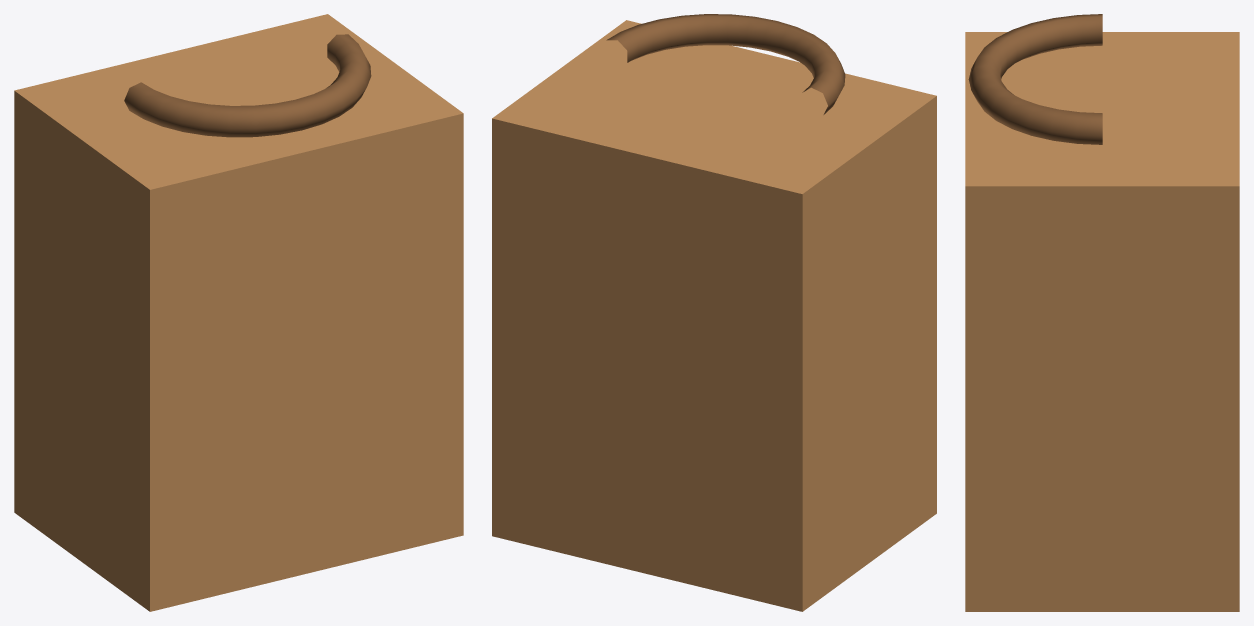
Rendered from checkout-bag.glb.
The picture shows the model from 3 angles, left to right: view 1: azimuth 30°, elevation 25°; view 2: azimuth 150°, elevation 25°; view 3: azimuth 270°, elevation 25°; orthographic projection.
Parts seen in each view (by area): view 1: n2, n3; view 2: n2, n3; view 3: n2, n3.
Part boxes in pixels (x1,y1,x2,y2): n2: (14, 14, 463, 611); n3: (124, 34, 371, 137); n2: (492, 20, 936, 611); n3: (606, 14, 845, 114); n2: (965, 32, 1239, 611); n3: (968, 14, 1102, 144).
Size of the model in its own units: 0.56 by 0.7944 by 0.42.
